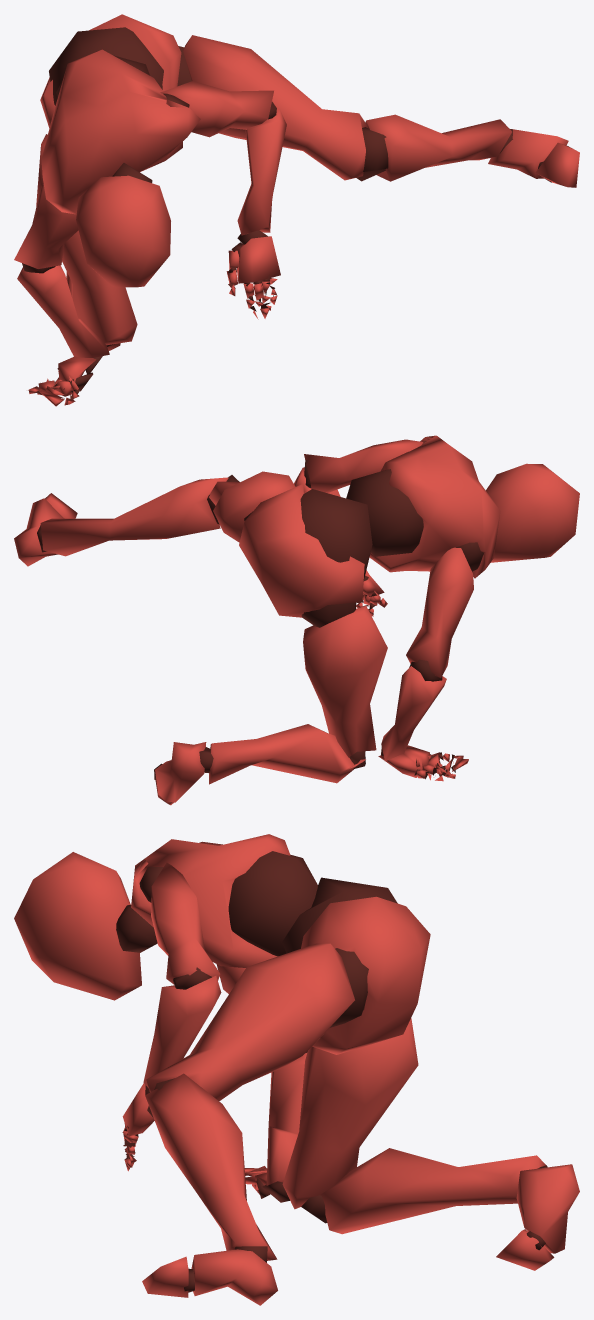
3 views of the same model, one above another, from view 1: azimuth 30°, elevation 25°; view 2: azimuth 150°, elevation 25°; view 3: azimuth 270°, elevation 25° (orthographic). The views are drawn at different scales.
Parts seen in each view (by area): view 1: Beta_Surface; view 2: Beta_Surface; view 3: Beta_Surface.
Part boxes in pixels (bbox=[...]): Beta_Surface: bbox=[14, 14, 579, 406]; Beta_Surface: bbox=[14, 435, 579, 805]; Beta_Surface: bbox=[14, 834, 579, 1305].
Bounding box in the file's own units: 13.5 × 8.06 × 10.95.
